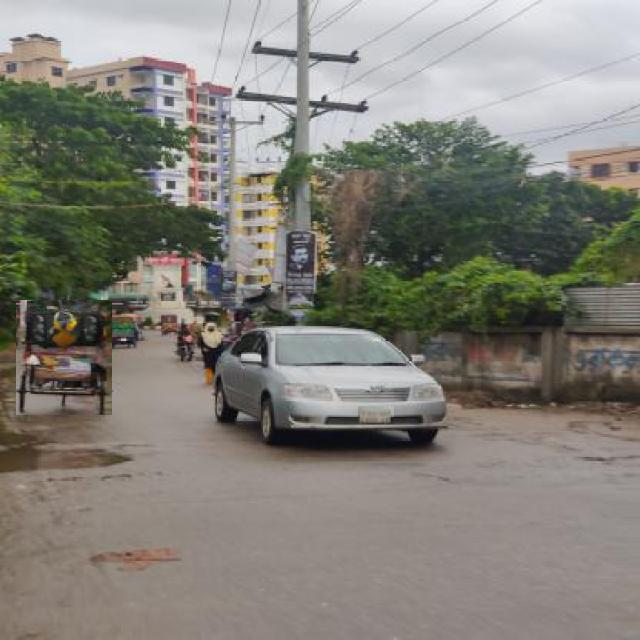Rickshaw: (16, 300, 112, 415)
numberplate: (358, 406, 394, 425)
